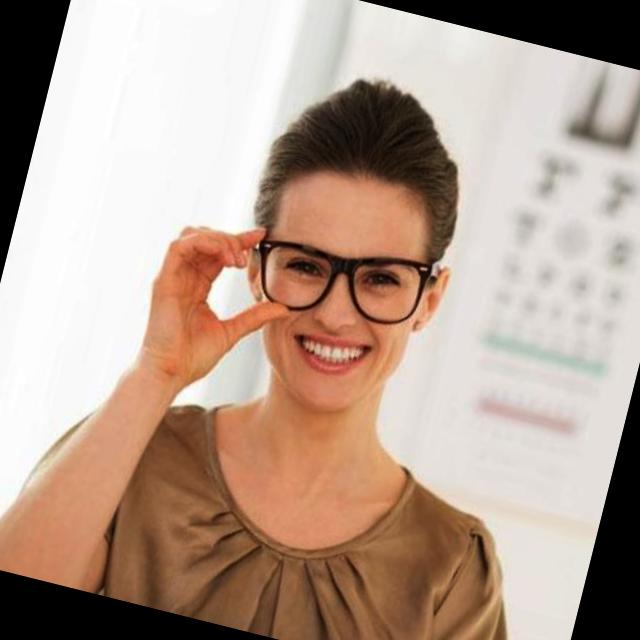glasses: (243, 219, 436, 341)
